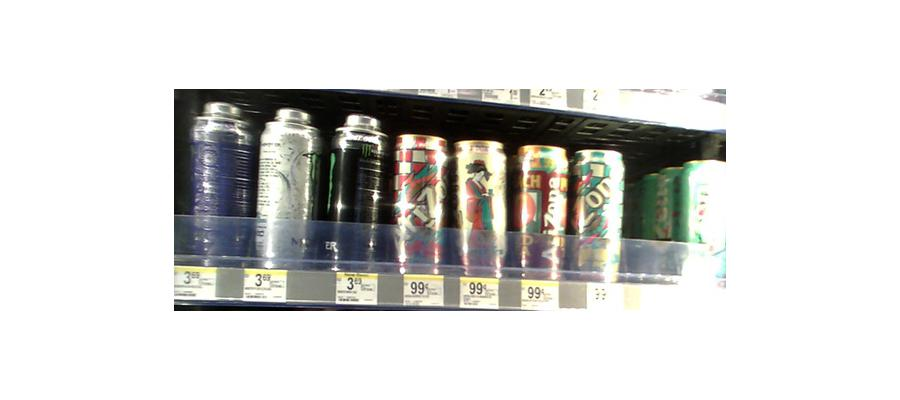bottle: (327, 112, 390, 277), (190, 103, 253, 265), (259, 109, 322, 268), (393, 132, 449, 276), (455, 138, 509, 280), (672, 152, 725, 288), (513, 143, 566, 278), (572, 148, 624, 284), (637, 171, 683, 275)
